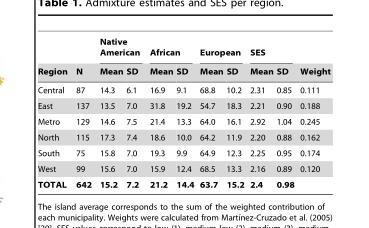table: (37, 37, 329, 188)
table column: (37, 37, 70, 188), (296, 37, 329, 188), (144, 37, 174, 188), (94, 37, 123, 188), (196, 37, 224, 188), (246, 37, 274, 188), (70, 37, 94, 188), (174, 37, 196, 188), (224, 37, 246, 188), (274, 37, 296, 188), (123, 37, 144, 188)
table column header: (37, 37, 329, 80)
table row: (37, 37, 329, 61), (37, 61, 329, 80), (37, 80, 329, 97), (37, 97, 329, 113), (37, 113, 329, 129), (37, 129, 329, 145), (37, 160, 329, 176), (37, 145, 329, 160), (37, 176, 329, 188)
table spanning cell: (37, 37, 70, 80), (296, 37, 329, 80), (144, 37, 196, 61), (94, 37, 144, 61), (196, 37, 246, 61), (246, 37, 296, 61), (70, 37, 94, 80)
